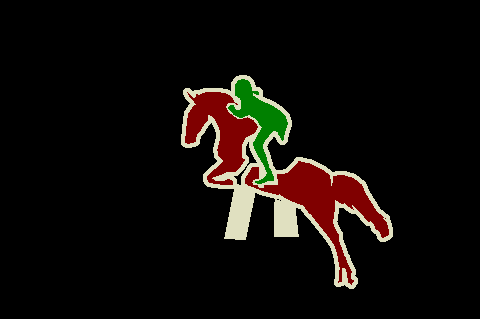horse: (180, 91, 391, 290)
person: (228, 82, 292, 188)
